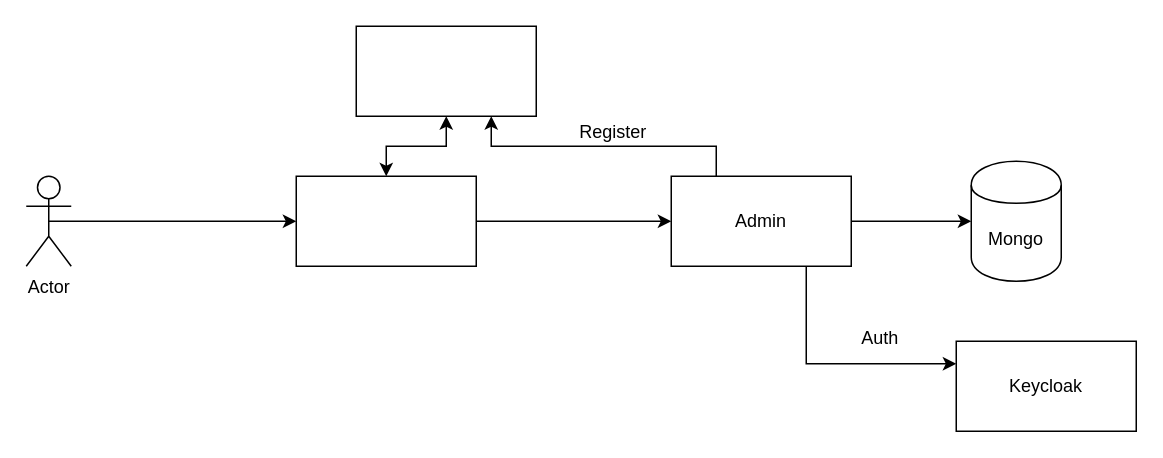
This 1163x458 diagram has some shape labels left out. The shapes that lost their labels are listed below. From the top down, each one's centre as x and y in pixels, then its label:
point (445, 70): Consul
point (385, 220): LB/Nginx
